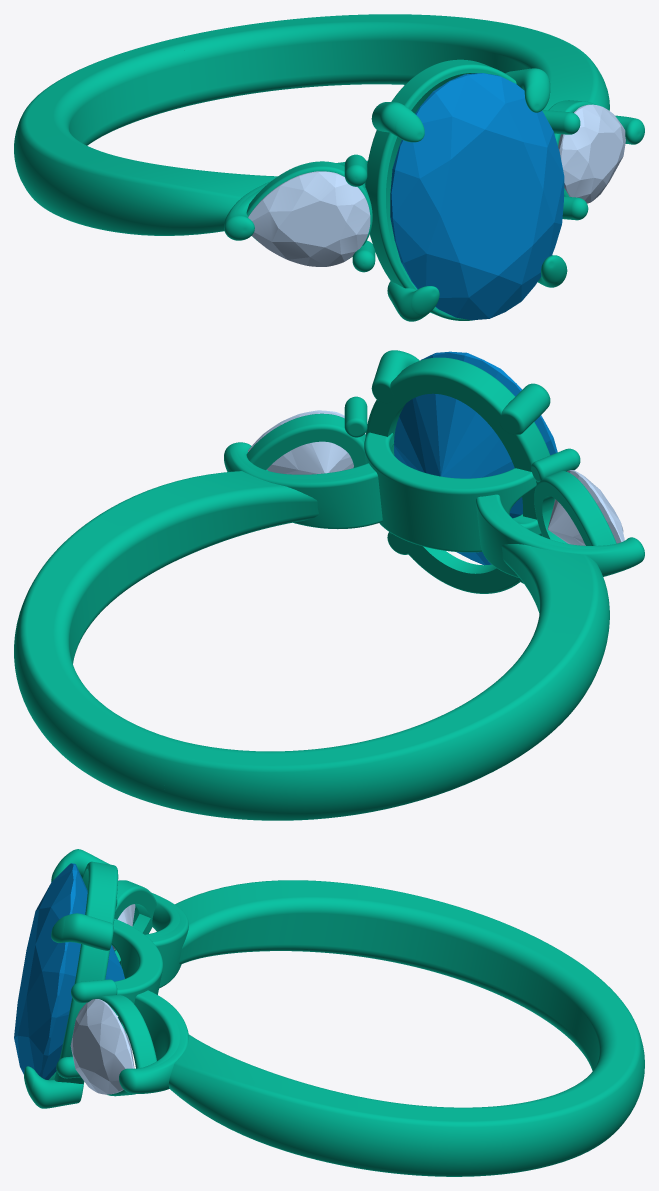
The picture shows the model from 3 angles, top to bottom: view 1: azimuth 30°, elevation 25°; view 2: azimuth 150°, elevation 25°; view 3: azimuth 270°, elevation 25°; orthographic projection. The views are drawn at different scales.
Visible parts, largest first — view 1: VR1034(base).3dm, Diamond_Oval, Diamond_Pear (×2), Bezel (×3), Head Prong (×8); view 2: VR1034(base).3dm, Bezel (×3), Diamond_Oval, Head Prong (×4), Diamond_Pear (×2); view 3: VR1034(base).3dm, Diamond_Oval, Bezel (×3), Head Prong (×4), Diamond_Pear.
Part boxes in pixels (bbox=[...]): VR1034(base).3dm: bbox=[14, 14, 644, 240]; Diamond_Oval: bbox=[390, 73, 564, 320]; Diamond_Pear (×2): bbox=[248, 104, 625, 266]; Bezel (×3): bbox=[246, 59, 595, 320]; Head Prong (×8): bbox=[344, 68, 588, 321]; VR1034(base).3dm: bbox=[14, 432, 644, 820]; Bezel (×3): bbox=[246, 357, 616, 593]; Diamond_Oval: bbox=[394, 351, 557, 565]; Head Prong (×4): bbox=[344, 350, 580, 482]; Diamond_Pear (×2): bbox=[248, 410, 624, 545]; VR1034(base).3dm: bbox=[111, 880, 644, 1176]; Diamond_Oval: bbox=[14, 863, 124, 1079]; Bezel (×3): bbox=[48, 861, 156, 1096]; Head Prong (×4): bbox=[24, 849, 117, 1108]; Diamond_Pear: bbox=[70, 999, 134, 1094].
Bounding box in the file's own units: 2.56 × 1.14 × 2.86.
